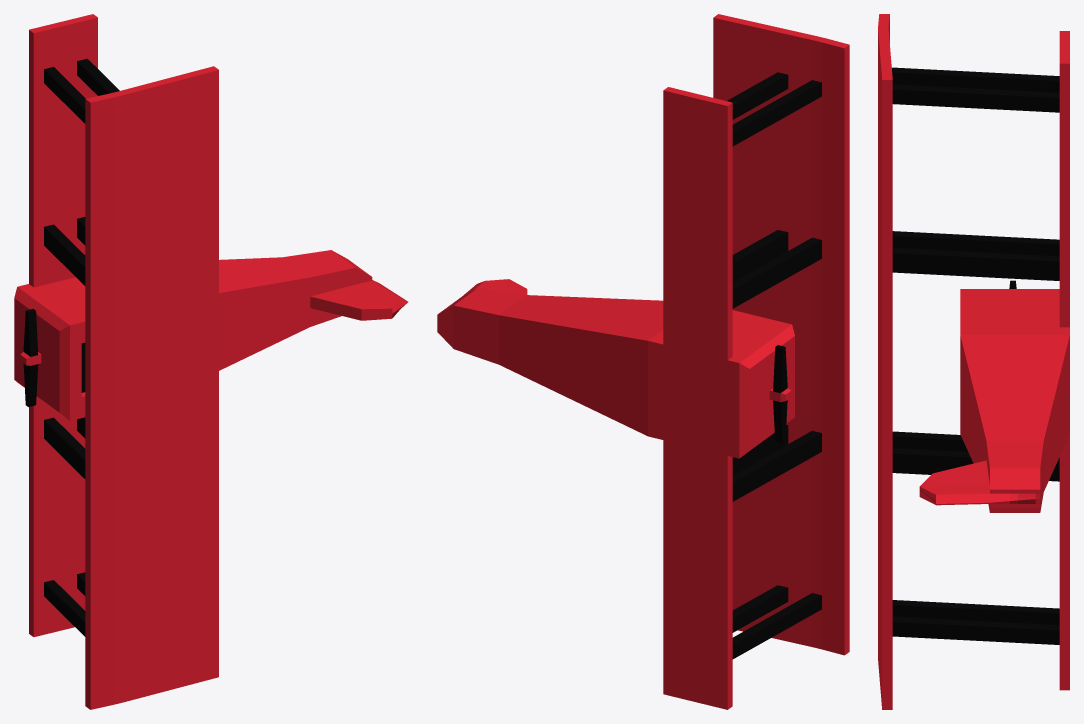
3 views of the same model, side by side, from view 1: azimuth 30°, elevation 25°; view 2: azimuth 150°, elevation 25°; view 3: azimuth 270°, elevation 25° (orthographic). The views are drawn at different scales.
Visible parts, largest first — view 1: Plane; view 2: Plane; view 3: Plane.
Boxes of the visible parts, x1,y1,x2,y2 form: Plane: (14,14,408,709); Plane: (437,14,849,709); Plane: (878,14,1069,709).
Bounding box in the file's own units: 763 × 1270 × 350.
